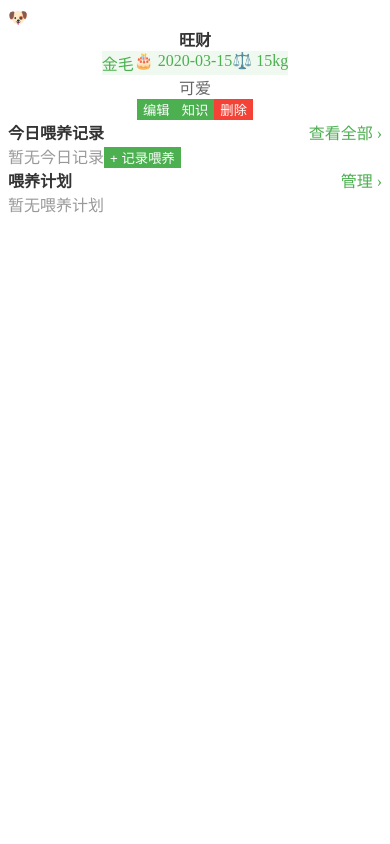
Test: 改名弹窗交互 › 点击宠物姓名弹出改名弹窗
The image size is (390, 844).
Click the text with class "name": (195, 40) [179,32,211,49]
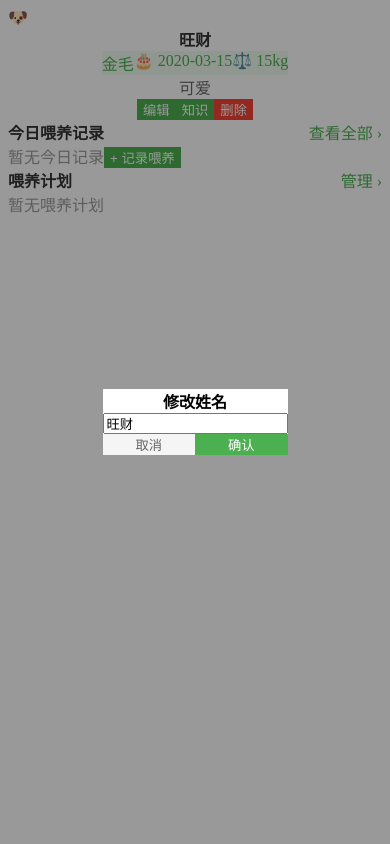
Now the element with class "overlay" is shown
Now the text with class "overlay-title" reads "修改姓名", box [163,394,227,411]
Now the field with class "overlay-input" holds "旺财", box [102,413,288,434]
